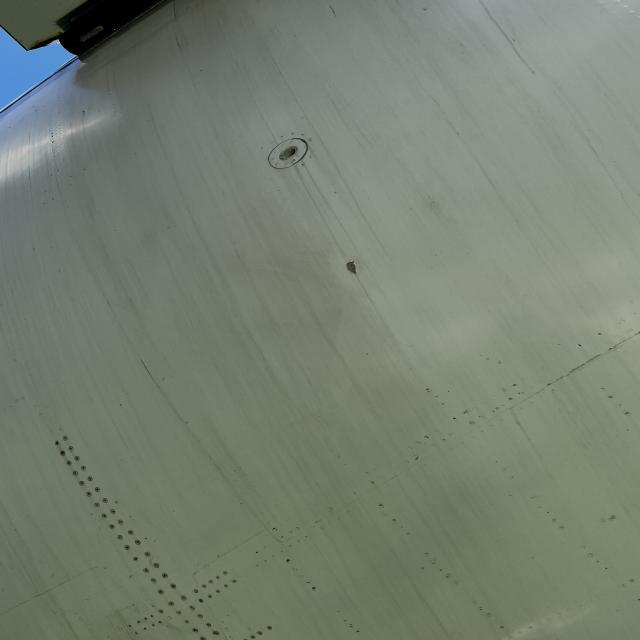crack: (137, 360, 171, 387), (351, 256, 361, 279)
